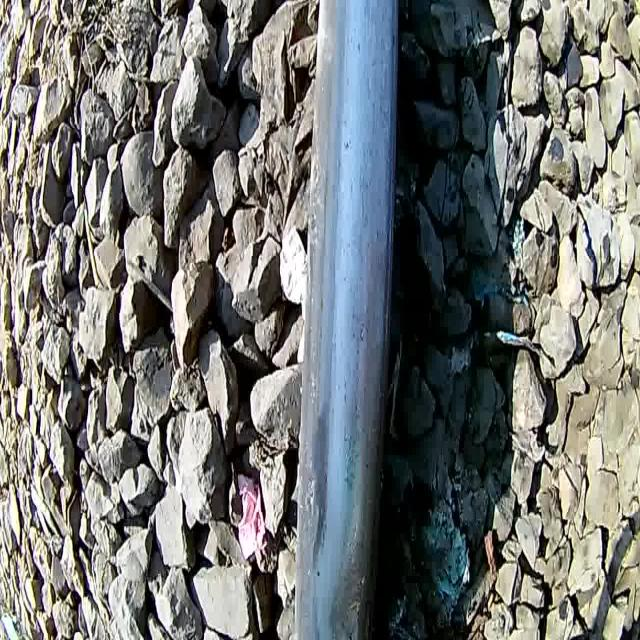Squats: (273, 0, 421, 640)
